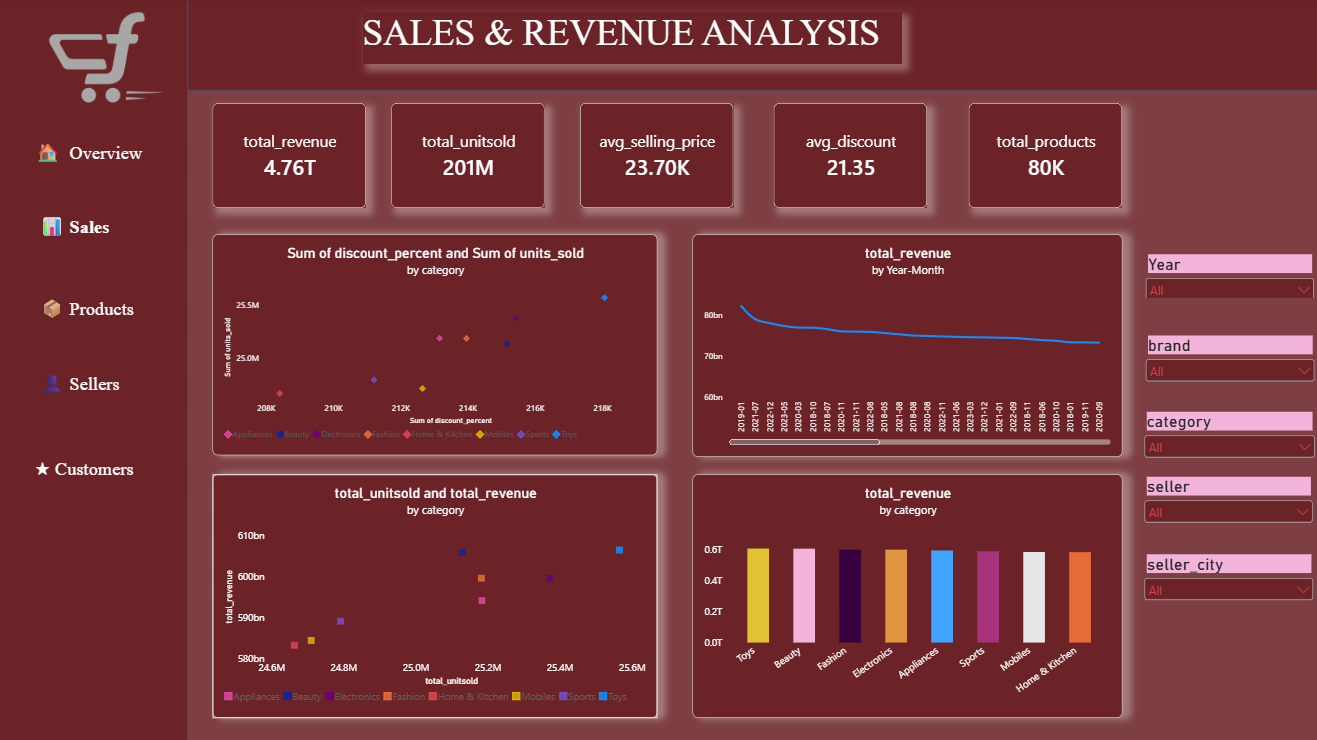

What the dashboard file says about the page in this screenshot:
{"tool":"powerbi","page":{"name":"Sales & Revenue Analysis","canvas":[1920,1080],"ordinal":1},"visuals":[{"type":"lineChart","fields":{"Category":["DateTable.Year-Month"],"Y":["calculation_table.total_revenue"]},"box":[1009.8,342,622.5,322.1],"z":0},{"type":"clusteredColumnChart","fields":{"Y":["calculation_table.total_revenue"],"Category":["flipkard.category"]},"box":[1009.8,689.5,622.5,352.9],"z":1000},{"type":"scatterChart","fields":{"X":["calculation_table.total_unitsold"],"Y":["calculation_table.total_revenue"],"Series":["flipkard.category"]},"box":[314.9,689.5,644.2,352.9],"z":2000},{"type":"scatterChart","fields":{"X":["Sum(flipkard.discount_percent)"],"Y":["Sum(flipkard.units_sold)"],"Series":["flipkard.category"]},"box":[314.9,342,644.2,320.3],"z":3000},{"type":"shape","box":[0,0,278.7,1080.4],"z":4000},{"type":"actionButton","box":[0,204.5,278.7,59.7],"z":5000},{"type":"textbox","box":[57.9,204.5,157.4,47.1],"z":6000},{"type":"actionButton","box":[0,311.3,278.7,59.7],"z":7000},{"type":"textbox","box":[57.9,311.3,157.4,59.7],"z":8000},{"type":"actionButton","box":[0,430.7,278.7,59.7],"z":9000},{"type":"textbox","box":[57.9,430.7,157.4,59.7],"z":10000},{"type":"actionButton","box":[0,539.3,278.7,59.7],"z":11000},{"type":"actionButton","box":[0,662.3,278.7,59.7],"z":12000},{"type":"textbox","box":[57.9,539.3,157.4,59.7],"z":13000},{"type":"textbox","box":[57.9,662.3,157.4,56.1],"z":14000},{"type":"shape","box":[278.7,0,1641.4,133.9],"z":15000},{"type":"textbox","box":[532,19.9,781.8,76],"z":16000},{"type":"cardVisual","fields":{"Data":["calculation_table.total_products"]},"box":[1409.7,152,222.3,152.3],"z":18000},{"type":"cardVisual","fields":{"Data":["calculation_table.total_unitsold"]},"box":[573.7,152,222.3,152.3],"z":19000},{"type":"cardVisual","fields":{"Data":["calculation_table.total_revenue"]},"box":[314.9,152,222.3,152.3],"z":20000},{"type":"cardVisual","fields":{"Data":["calculation_table.avg_selling_price"]},"box":[846.9,152,222.3,152.3],"z":21000},{"type":"cardVisual","fields":{"Data":["calculation_table.avg_discount"]},"box":[1127.4,152,222.3,152.3],"z":22000},{"type":"slicer","fields":{"Values":["DateTable.Date.Variation.Date Hierarchy.Year"]},"box":[1661.3,371,253.4,63.3],"z":23000},{"type":"slicer","fields":{"Values":["flipkard.brand"]},"box":[1661.3,488.6,254,82],"z":24000},{"type":"slicer","fields":{"Values":["flipkard.category"]},"box":[1659.5,599,256,90],"z":25000},{"type":"slicer","fields":{"Values":["flipkard.seller"]},"box":[1659.5,693.1,253.4,83.2],"z":26000},{"type":"slicer","fields":{"Values":["flipkard.seller_city"]},"box":[1659.5,805.3,254,78],"z":27000},{"type":"image","box":[47.1,0,231.6,171.9],"z":27002}]}

Visuals, with their boxes on the page's 1920x1080 design canvas (x1, y1, x2, y2). These are canvas units, not pixel positions in the 1317x740 screenshot, which may show the page scaled, cropped or inside an application window:
lineChart - DateTable.Year-Month x calculation_table.total_revenue: left=1010, top=342, right=1632, bottom=664
clusteredColumnChart - calculation_table.total_revenue x flipkard.category: left=1010, top=690, right=1632, bottom=1042
scatterChart - calculation_table.total_unitsold x calculation_table.total_revenue: left=315, top=690, right=959, bottom=1042
scatterChart - Sum(flipkard.discount_percent) x Sum(flipkard.units_sold): left=315, top=342, right=959, bottom=662
shape: left=0, top=0, right=279, bottom=1080
actionButton: left=0, top=204, right=279, bottom=264
textbox: left=58, top=204, right=215, bottom=252
actionButton: left=0, top=311, right=279, bottom=371
textbox: left=58, top=311, right=215, bottom=371
actionButton: left=0, top=431, right=279, bottom=490
textbox: left=58, top=431, right=215, bottom=490
actionButton: left=0, top=539, right=279, bottom=599
actionButton: left=0, top=662, right=279, bottom=722
textbox: left=58, top=539, right=215, bottom=599
textbox: left=58, top=662, right=215, bottom=718
shape: left=279, top=0, right=1920, bottom=134
textbox: left=532, top=20, right=1314, bottom=96
cardVisual - calculation_table.total_products: left=1410, top=152, right=1632, bottom=304
cardVisual - calculation_table.total_unitsold: left=574, top=152, right=796, bottom=304
cardVisual - calculation_table.total_revenue: left=315, top=152, right=537, bottom=304
cardVisual - calculation_table.avg_selling_price: left=847, top=152, right=1069, bottom=304
cardVisual - calculation_table.avg_discount: left=1127, top=152, right=1350, bottom=304
slicer - DateTable.Date.Variation.Date Hierarchy.Year: left=1661, top=371, right=1915, bottom=434
slicer - flipkard.brand: left=1661, top=489, right=1915, bottom=571
slicer - flipkard.category: left=1660, top=599, right=1916, bottom=689
slicer - flipkard.seller: left=1660, top=693, right=1913, bottom=776
slicer - flipkard.seller_city: left=1660, top=805, right=1914, bottom=883
image: left=47, top=0, right=279, bottom=172
